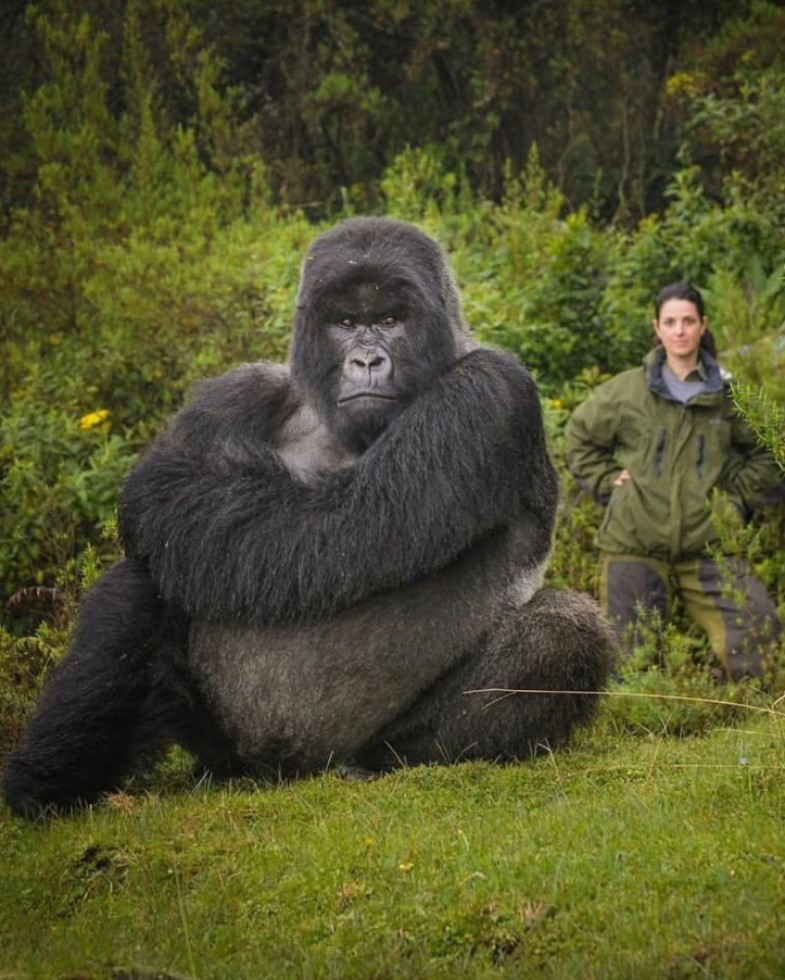Gorilla: (79, 211, 585, 777)
